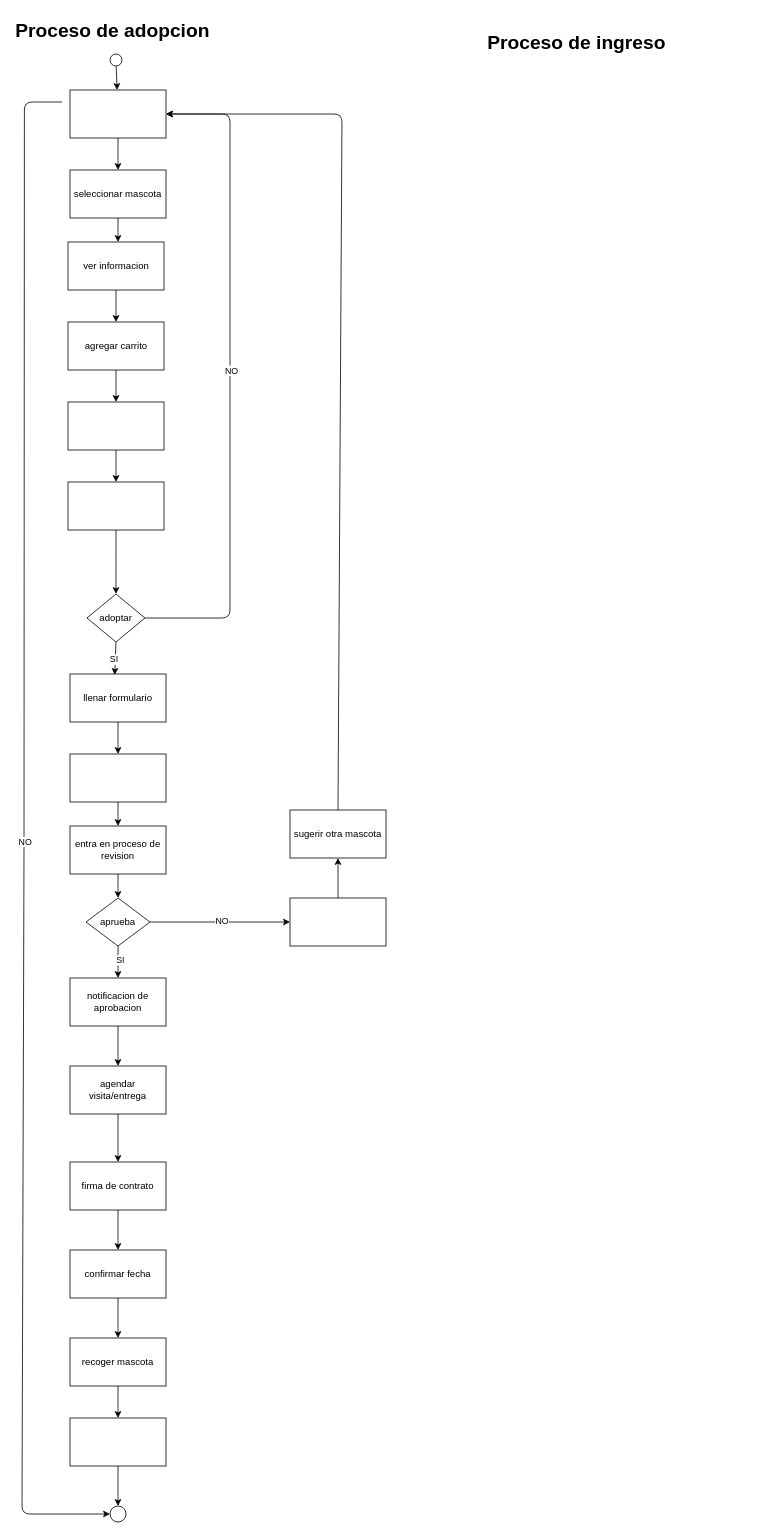
Image size: 771x1536. Some labels were removed from this diagram. The shapes that lost their labels are listed below. From the top down, each one's centre as x and y in pixels, then its label:
At pixel 117 113: "Ver catalogo".
At pixel 115 425: "ver carrito".
At pixel 115 505: "seleccionar mascota de carrito".
At pixel 117 777: "enviar solicitud".
At pixel 337 921: "notificación de rechazo".
At pixel 117 1441: "programar seguimientos".
